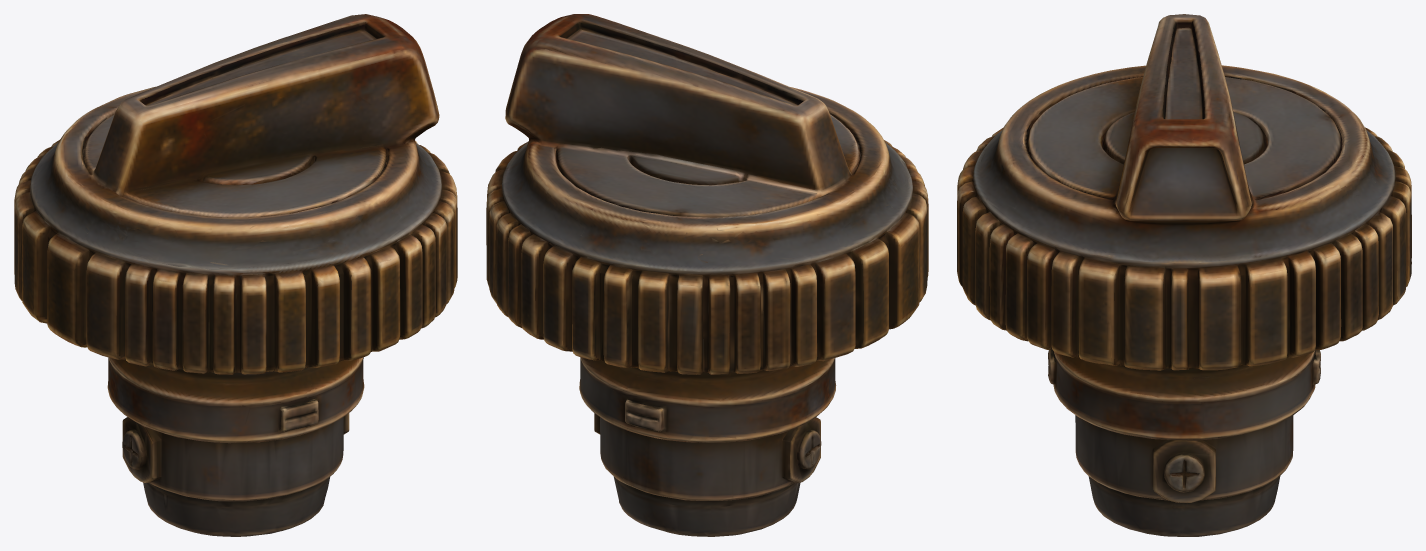
The model's file is adjuster.glb.
The picture shows the model from 3 angles, left to right: view 1: azimuth 30°, elevation 25°; view 2: azimuth 150°, elevation 25°; view 3: azimuth 270°, elevation 25°; orthographic projection. The views are drawn at different scales.
Visible parts, largest first — view 1: Mesh_0; view 2: Mesh_0; view 3: Mesh_0.
Part boxes in pixels (x1,y1,x2,y2): Mesh_0: [14, 14, 457, 536]; Mesh_0: [486, 14, 928, 536]; Mesh_0: [957, 14, 1411, 536].
Bounding box in the file's own units: 0.8704 × 0.9565 × 0.8691.
Materials: 1 (1 with a texture image).
